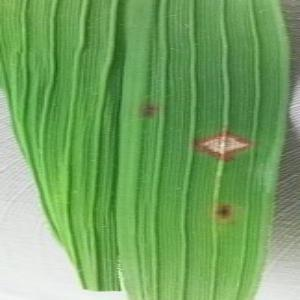1 RiceBlast: (191, 107, 261, 173)
